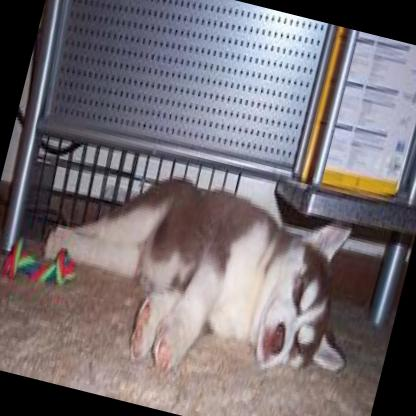Siberian_husky: (25, 145, 381, 407)
